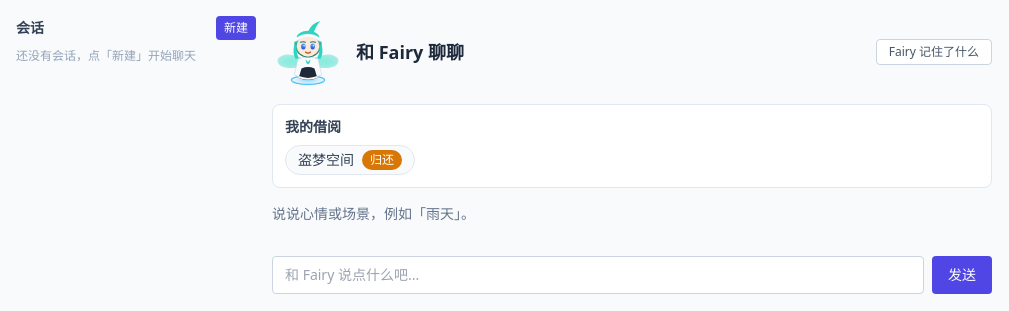
Test: ChatPage › sends an action return request and removes the chip on success
The width and height of the screenshot is (1009, 311).
Click the button "归还" at point(382, 160), box left=362, top=150, right=402, bottom=170
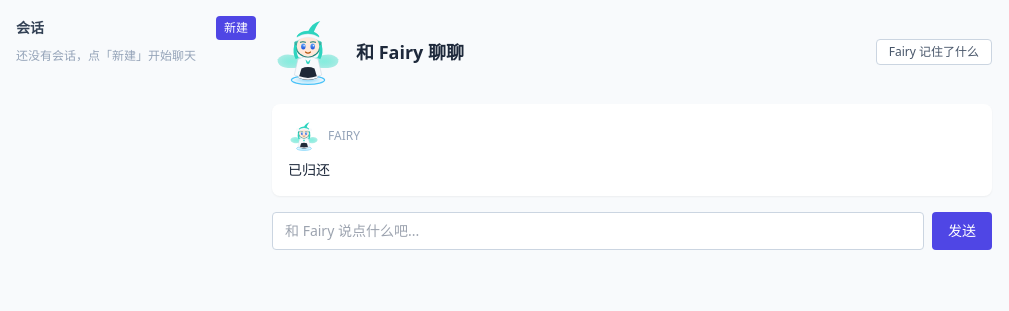
Expected: the text "盗梦空间" is gone
